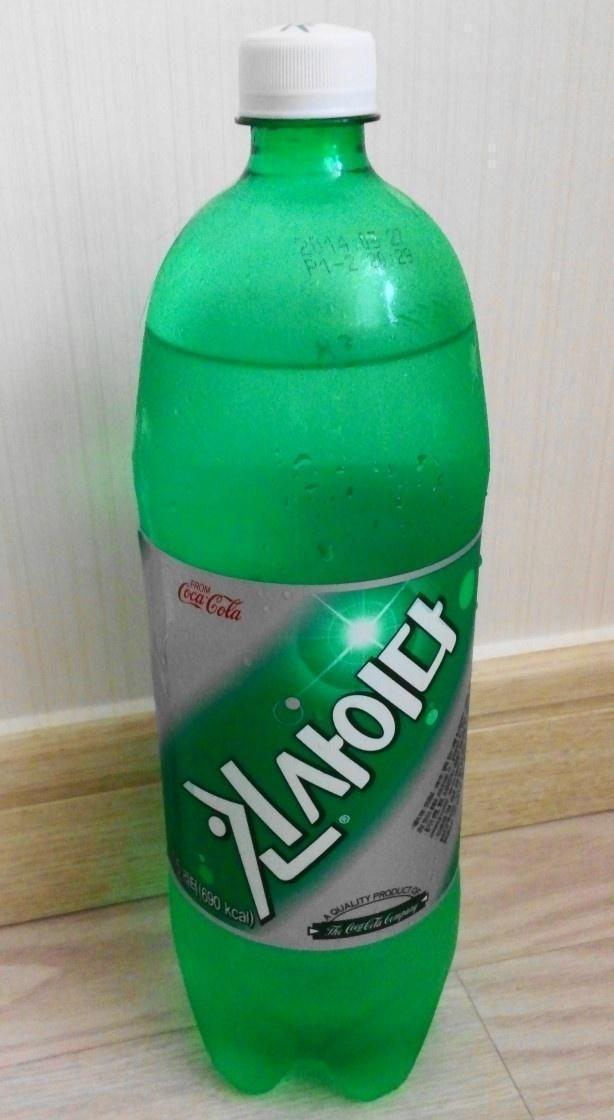bottle-plastic: (125, 8, 498, 1116)
